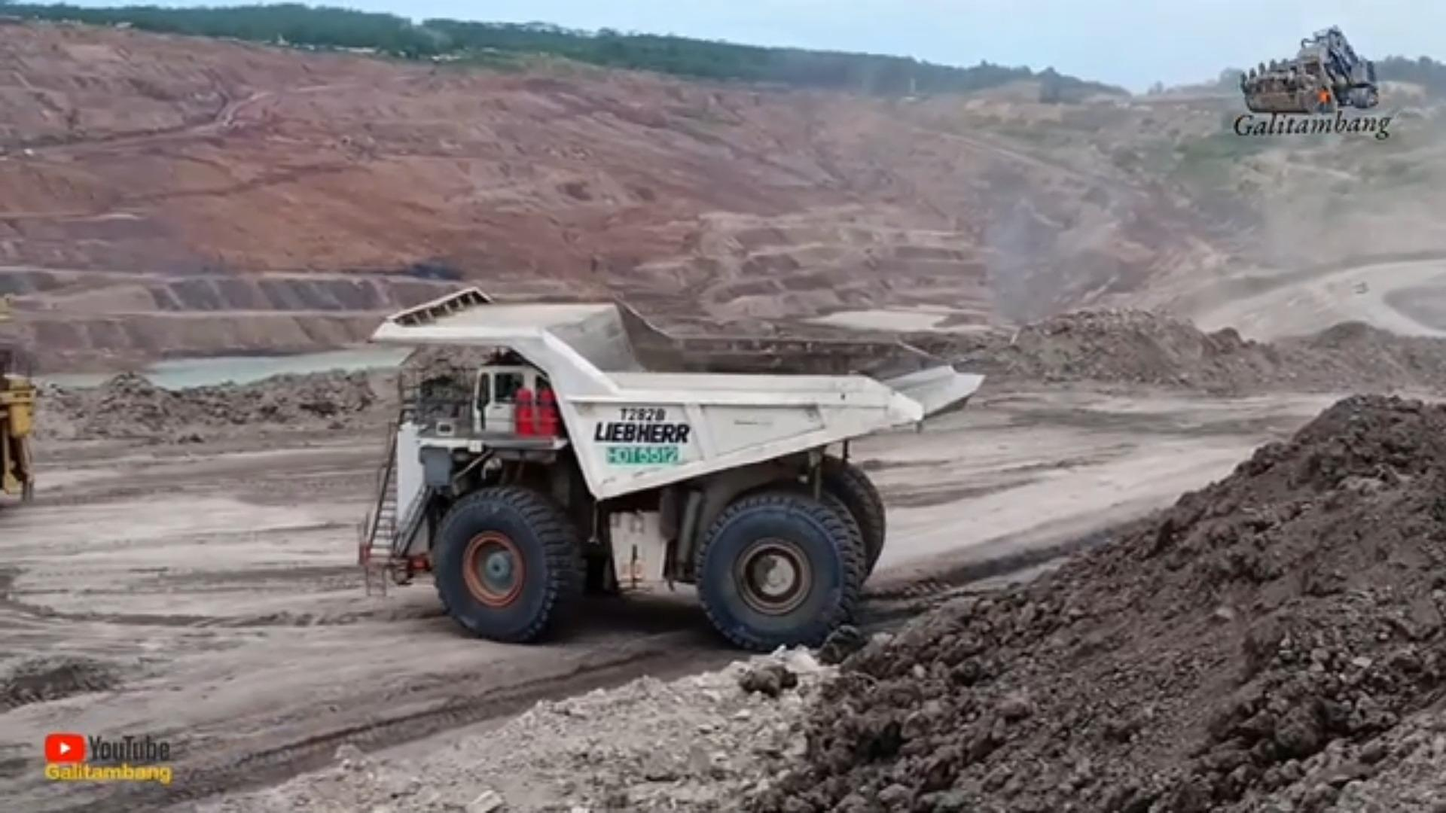HD-Truck: (357, 287, 985, 650)
